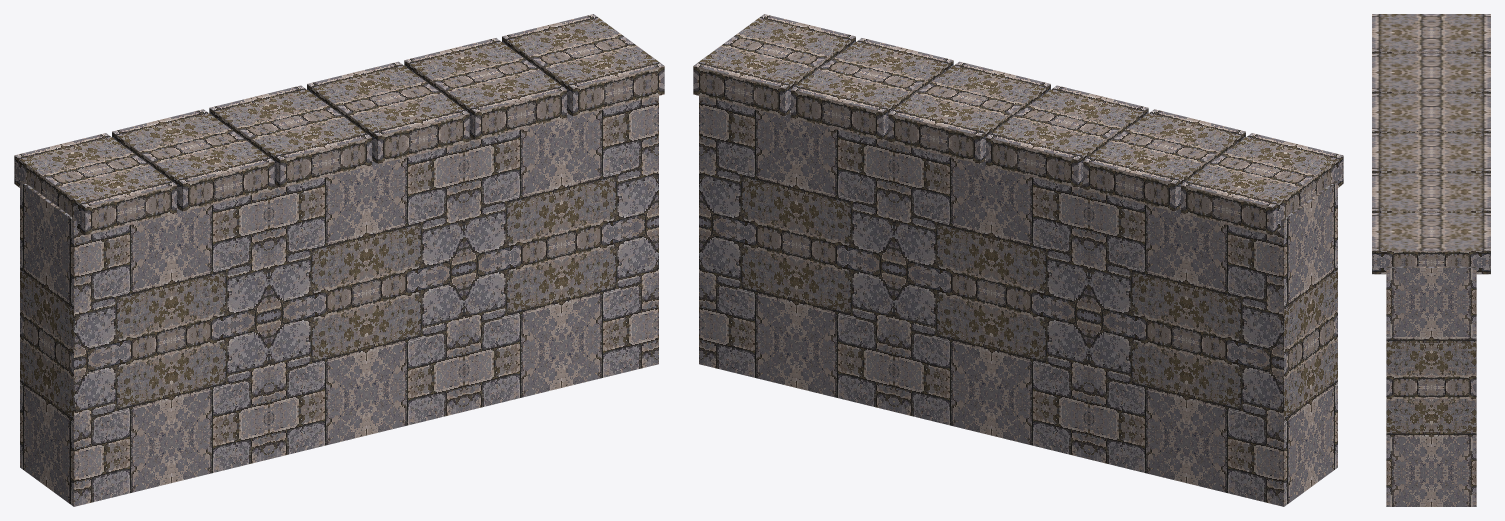
The model's file is bank_wall.glb.
3 views of the same model, side by side, from view 1: azimuth 30°, elevation 25°; view 2: azimuth 150°, elevation 25°; view 3: azimuth 270°, elevation 25° (orthographic). The views are drawn at different scales.
Visible parts, largest first — view 1: bank_wall_canal_stone; view 2: bank_wall_canal_stone; view 3: bank_wall_canal_stone.
Boxes of the visible parts, <box> form: bank_wall_canal_stone: <box>14,14,664,506</box>; bank_wall_canal_stone: <box>693,14,1343,506</box>; bank_wall_canal_stone: <box>1372,14,1490,506</box>.
Bounding box in the file's own units: 3 × 1.49 × 0.63.
Materials: 1 (1 with a texture image).
